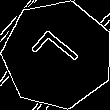L_SE: (28, 26, 87, 83)
